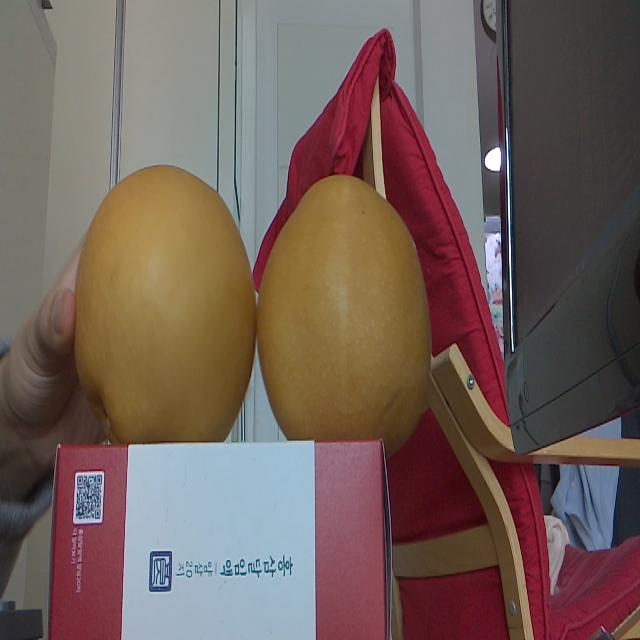pear: (256, 178, 432, 467), (74, 168, 255, 443)
